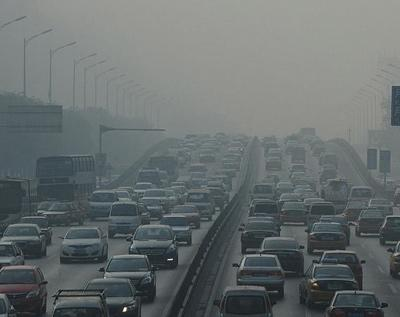bus: (34, 153, 97, 202), (148, 156, 178, 183), (134, 169, 160, 192)
car: (297, 258, 361, 310), (97, 254, 158, 303), (231, 252, 288, 300), (126, 223, 181, 269), (81, 275, 141, 317), (1, 266, 48, 317), (314, 250, 365, 293), (322, 287, 389, 317), (258, 236, 306, 277), (213, 285, 274, 317), (58, 226, 108, 264), (239, 214, 283, 253), (1, 223, 47, 260), (306, 222, 348, 256), (106, 201, 143, 239), (157, 213, 192, 246), (41, 200, 86, 225), (304, 198, 337, 232), (247, 197, 283, 228), (18, 215, 53, 246), (317, 214, 350, 246), (88, 190, 118, 220), (354, 208, 387, 235), (346, 184, 377, 212), (185, 190, 214, 219), (168, 204, 201, 229), (139, 189, 168, 217), (278, 199, 307, 226), (319, 178, 350, 201), (249, 181, 276, 205), (291, 184, 320, 206), (108, 189, 132, 215), (367, 196, 394, 219), (380, 215, 400, 245), (206, 180, 231, 202), (201, 186, 224, 209), (165, 180, 187, 201), (277, 191, 300, 210), (154, 188, 177, 207), (275, 180, 295, 198), (150, 168, 169, 186), (317, 167, 339, 182), (318, 149, 337, 166), (290, 145, 307, 163), (263, 154, 282, 170), (287, 164, 308, 178), (261, 171, 279, 187), (289, 170, 309, 184), (198, 148, 216, 163), (188, 164, 206, 179), (263, 141, 281, 155), (311, 142, 328, 156), (284, 138, 299, 153), (220, 163, 235, 177), (308, 136, 324, 149), (266, 148, 284, 159), (261, 133, 276, 146)
